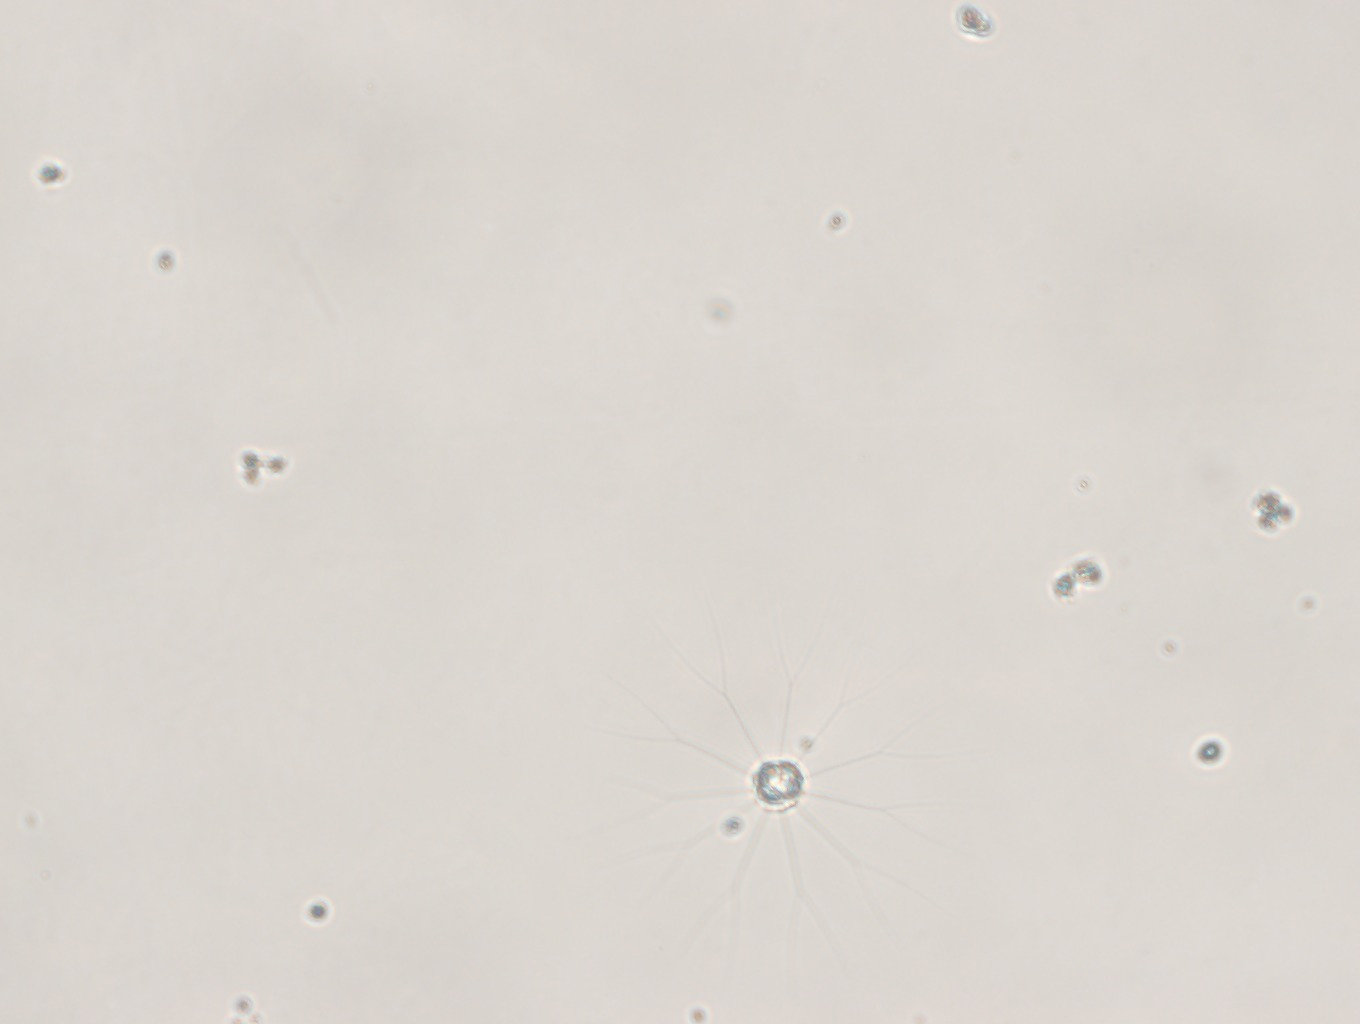bacteriastrum: (604, 646, 961, 964)
